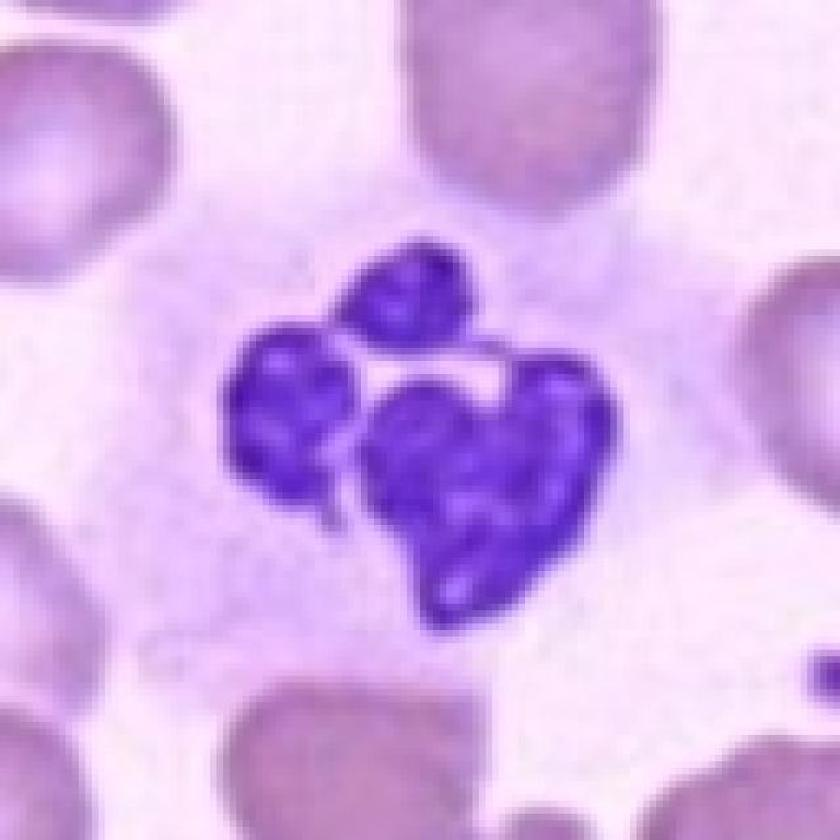neutrophil: (96, 175, 768, 700)
